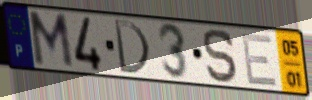3: (156, 20, 189, 84)
4: (73, 15, 106, 73)
D: (111, 17, 152, 77)
E: (239, 32, 280, 89)
M: (26, 10, 76, 72)
S: (202, 27, 241, 86)
